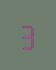three: (19, 20, 35, 49)
